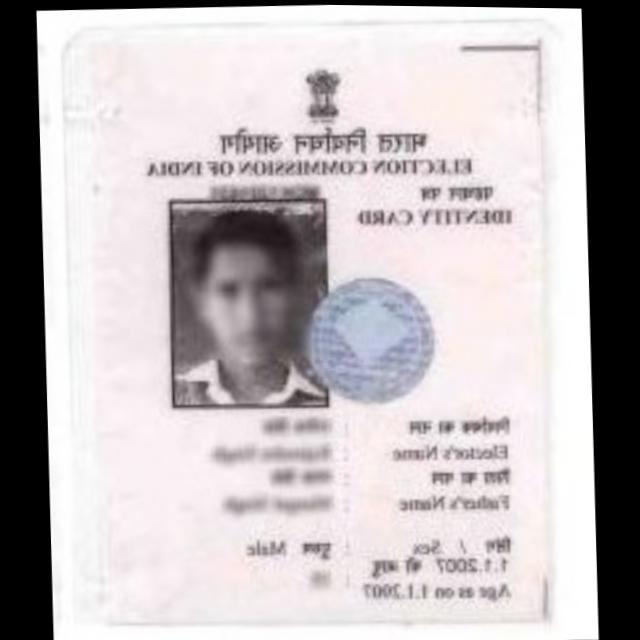voter_id: (69, 24, 570, 640)
